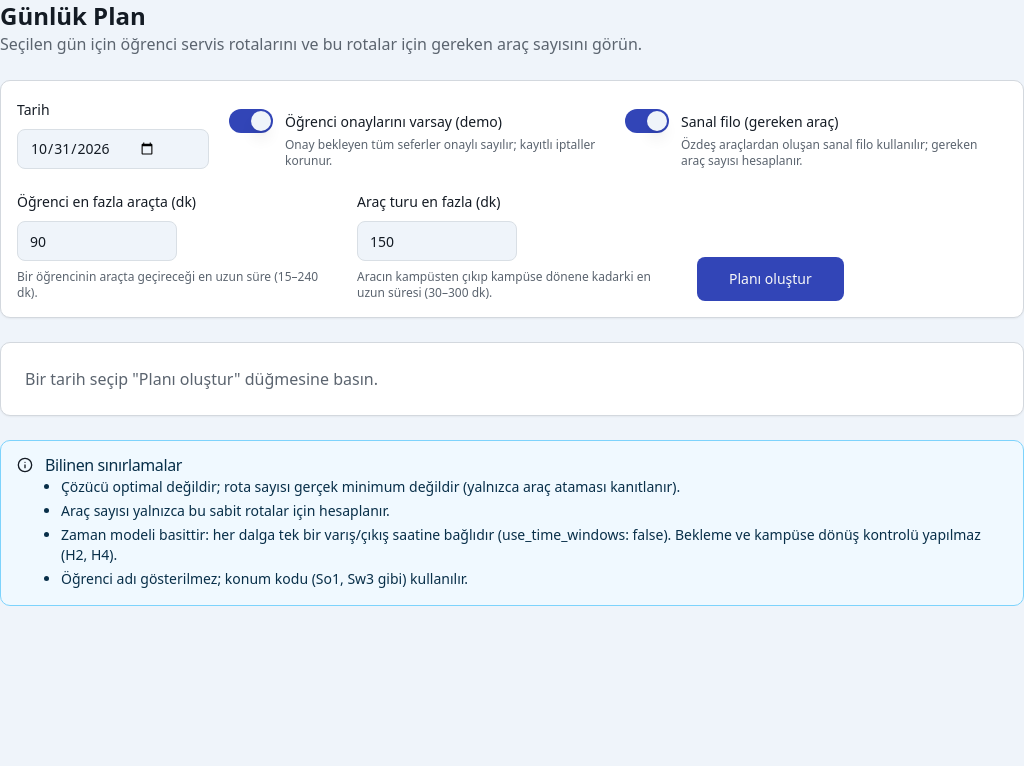
Test: DailyPlanPage › sends assume_confirmed and virtual by default
The width and height of the screenshot is (1024, 766).
Type "2026-10-05" into the date field labelled "Tarih".
click(113, 149); type("2026-10-05")  # box [17,129,209,169]
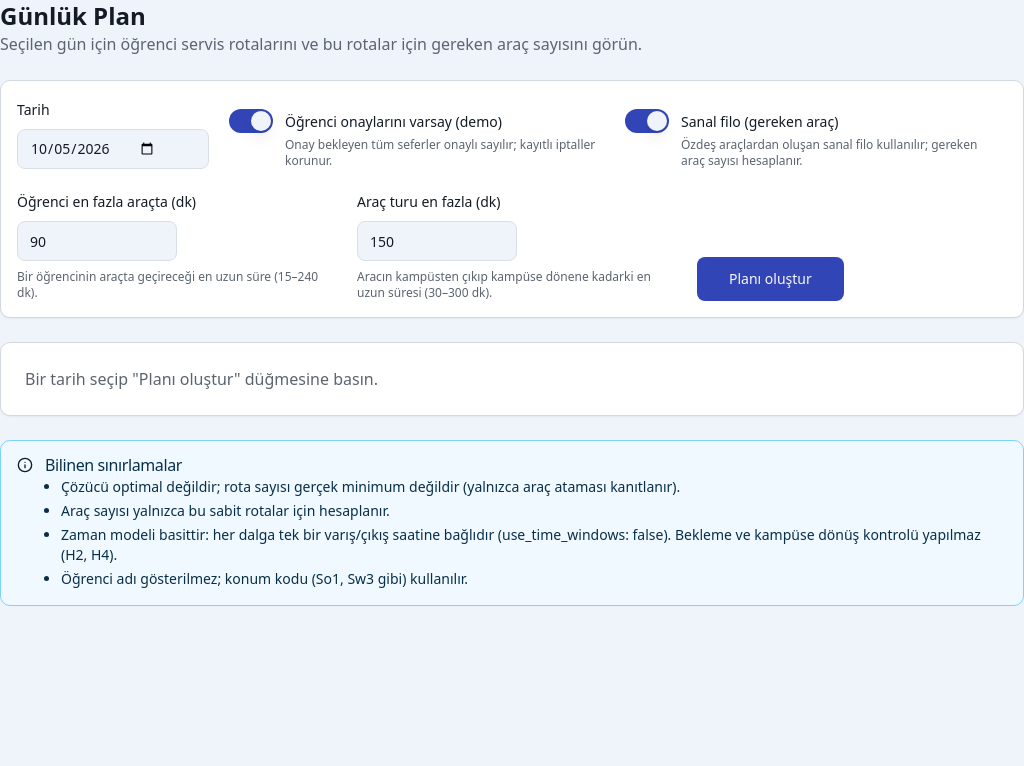
Click the button "Planı oluştur".
click(770, 279)  # box [697,257,844,301]
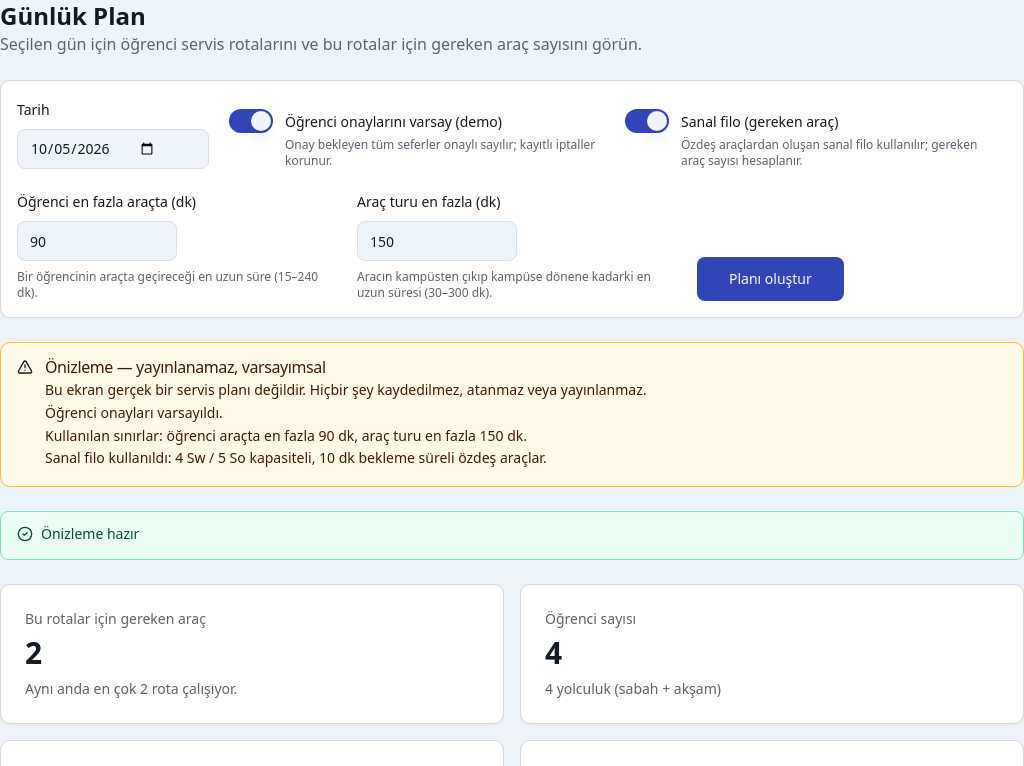
Now the message with test id "preview-banner" is shown, box [0,342,1023,487]
